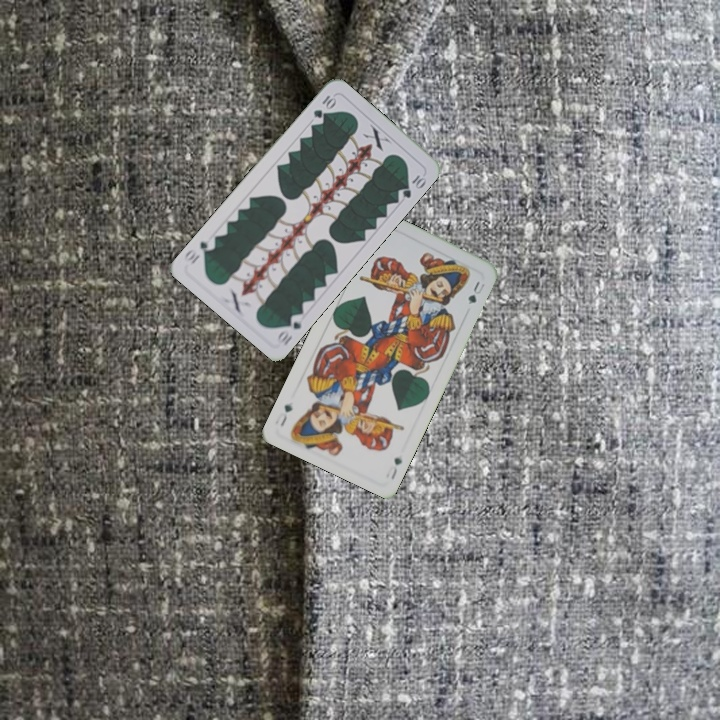G10: (273, 309, 304, 349), (309, 90, 339, 121)
GU: (387, 453, 405, 482)
